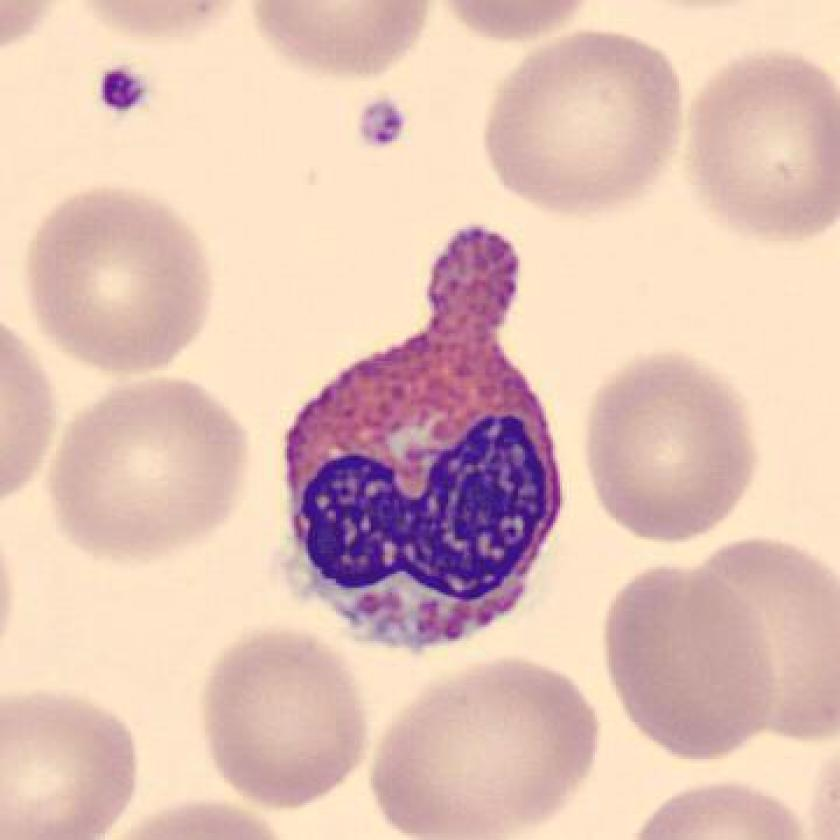eosinophil: (258, 223, 580, 665)
